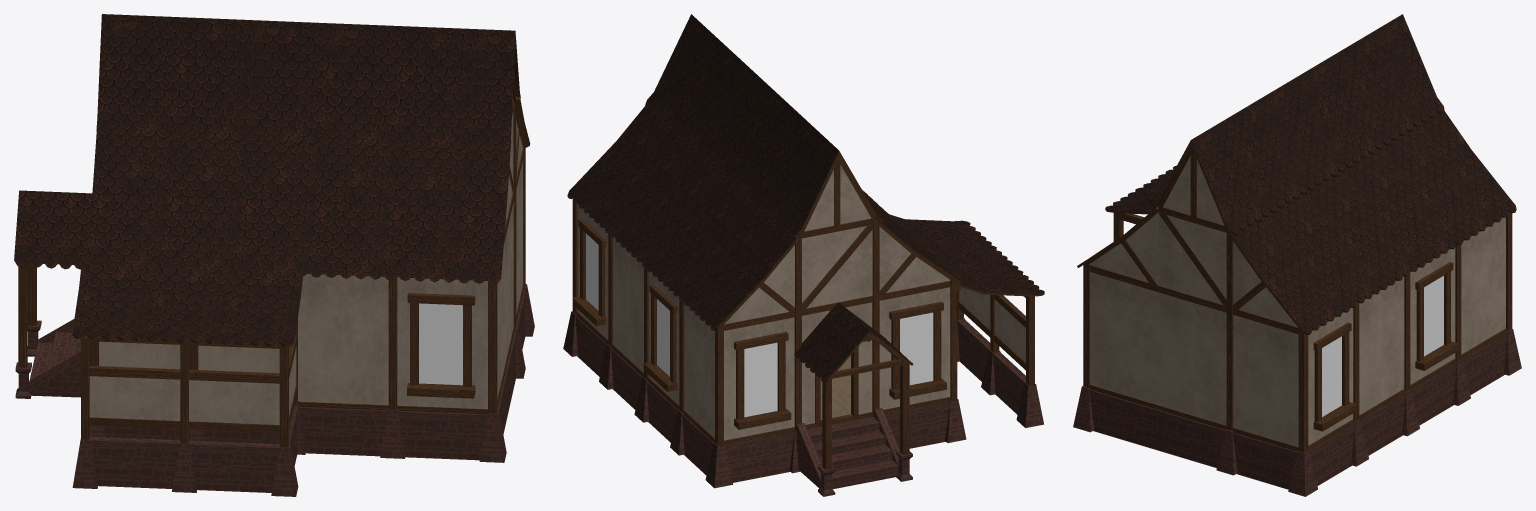
Rendered from ToyGo.fbx.
3 views of the same model, side by side, from view 1: azimuth 30°, elevation 25°; view 2: azimuth 150°, elevation 25°; view 3: azimuth 270°, elevation 25° (orthographic). The views are drawn at different scales.
Visible parts, largest first — view 1: Plane.004; view 2: Plane.004; view 3: Plane.004.
Boxes of the visible parts, box(x1,y1,x2,y2) form: Plane.004: box(14, 14, 534, 496); Plane.004: box(563, 14, 1044, 496); Plane.004: box(1073, 14, 1521, 496).
Size of the model in its own units: 3498 by 2388 by 3016.
8 materials, 7 textured.
